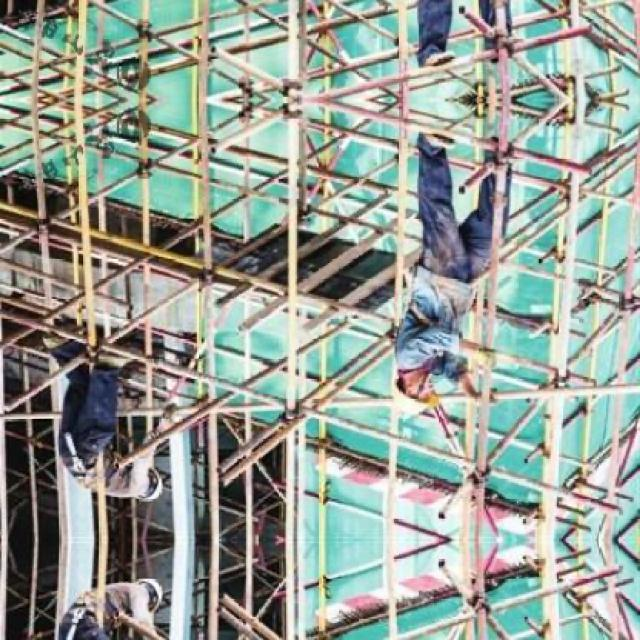con casco: (382, 358, 452, 426)
